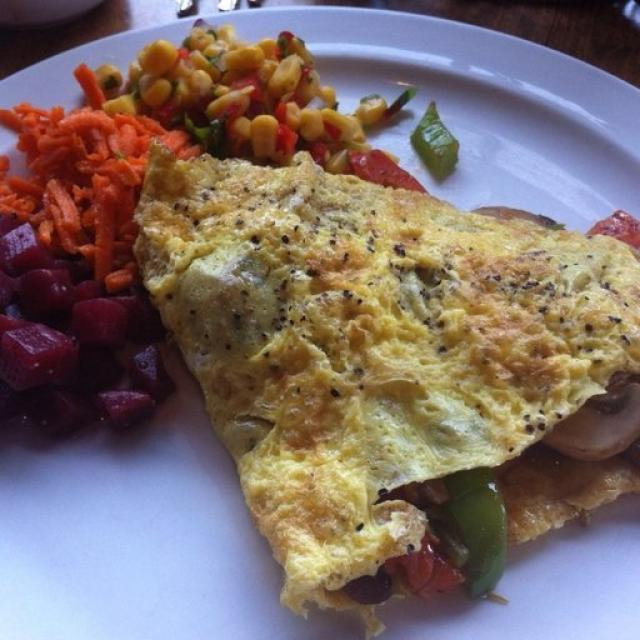telur_ayam_dadar: (131, 138, 640, 636)
